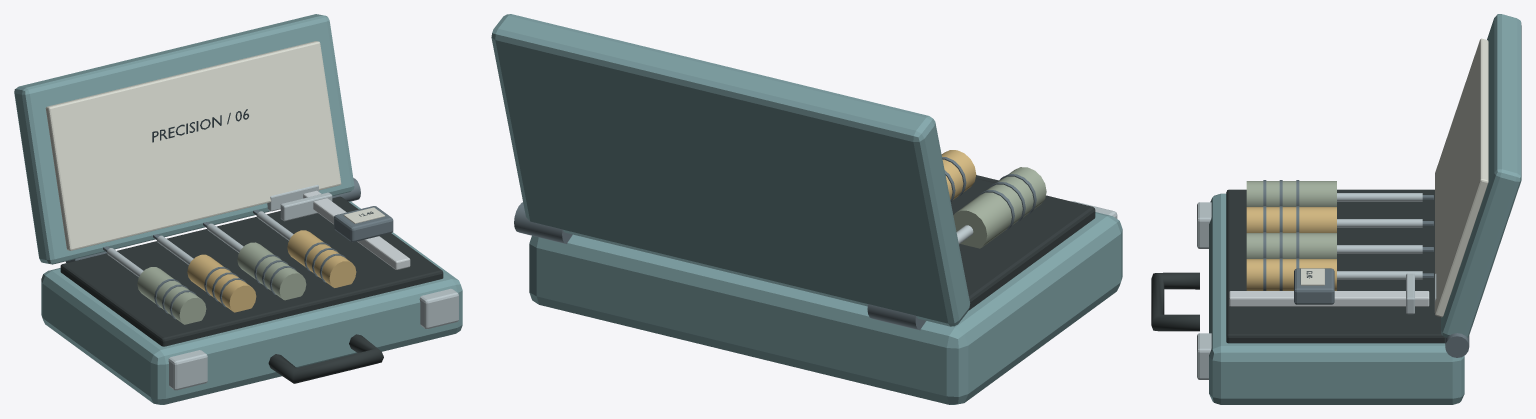
Rendered from loot_tools.glb.
3 renders of one model, left to right at view 1: azimuth 30°, elevation 25°; view 2: azimuth 150°, elevation 25°; view 3: azimuth 270°, elevation 25°, orthographic. The views are drawn at different scales.
Visible parts, largest first — view 1: loot_tools.001; view 2: loot_tools.001; view 3: loot_tools.001.
Boxes of the visible parts, left/top/right/bottom form: loot_tools.001: left=14, top=14, right=462, bottom=404; loot_tools.001: left=491, top=14, right=1122, bottom=404; loot_tools.001: left=1151, top=14, right=1521, bottom=404.
Bounding box in the file's own units: 0.2585 × 0.1737 × 0.246.
